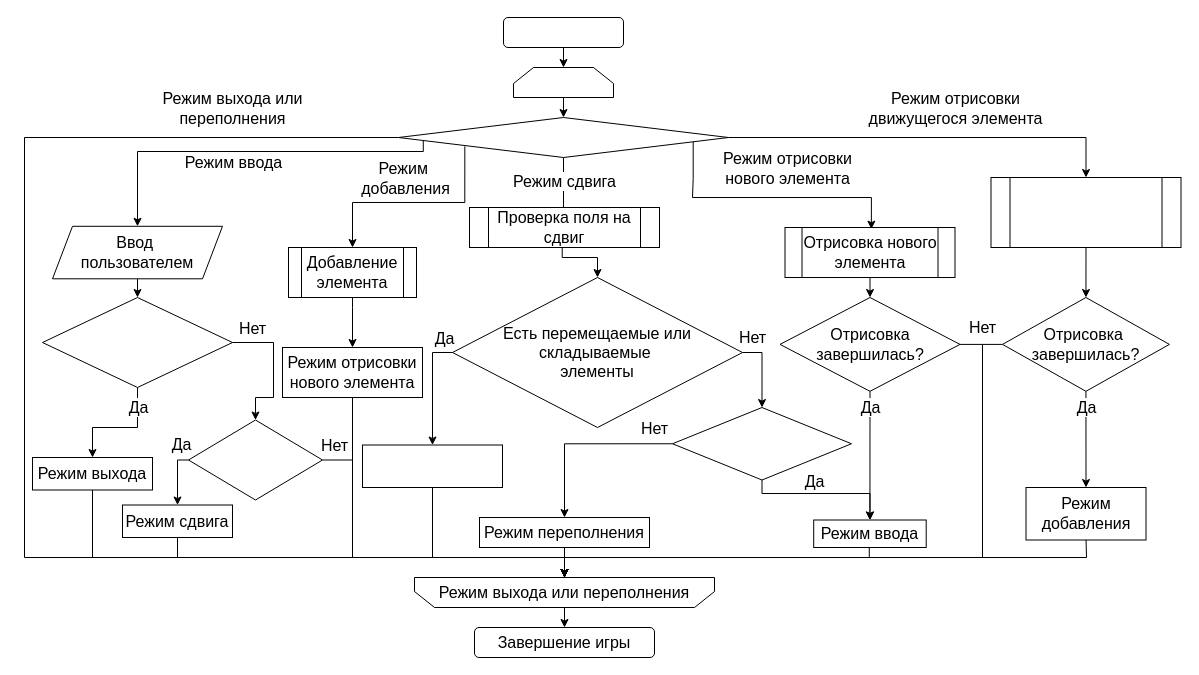
Image size: 1199x675. Some labels were removed from this diagram. Here are the shapes that lost their labels. From the top down, the centre of each, then its label:
At point (563, 32): "Игровой цикл".
At point (563, 137): "Выставленный режим".
At point (1085, 212): "Отрисовка движущегося элемента".
At point (137, 342): "Игрок запросил выход?".
At point (255, 459): "Игрок запросил сдвиг?".
At point (762, 443): "Есть пустые ячейки?".
At point (432, 466): "Режим отрисовки движения".
